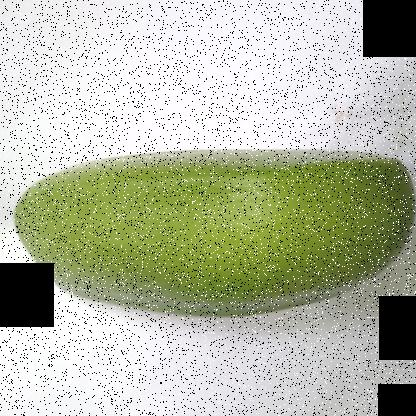freshunripe: (6, 129, 416, 326)
